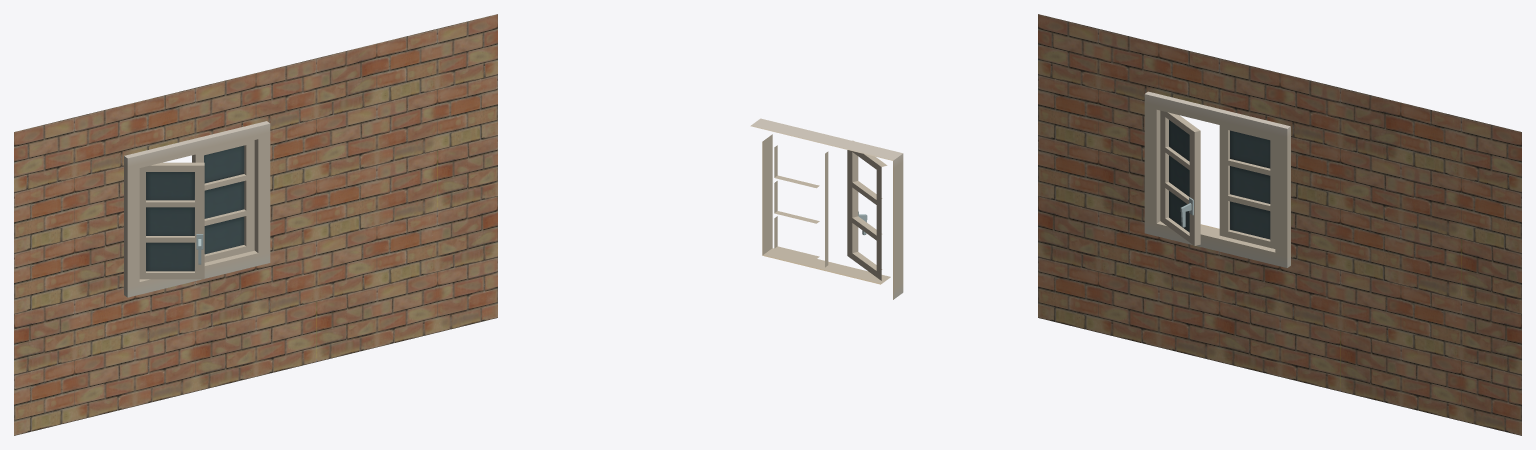
The model's file is teen21.gltf.
The picture shows the model from 3 angles, left to right: view 1: azimuth 30°, elevation 25°; view 2: azimuth 150°, elevation 25°; view 3: azimuth 330°, elevation 25°; orthographic projection.
Parts seen in each view (by area): view 1: teen21; view 2: teen21; view 3: teen21.
Boxes of the visible parts, x1,y1,x2,y2 form: teen21: [14, 14, 497, 435]; teen21: [750, 118, 903, 299]; teen21: [1038, 14, 1521, 435].
Bounding box in the file's own units: 400 × 240 × 40.98.
Materials: 3 (3 with a texture image).
